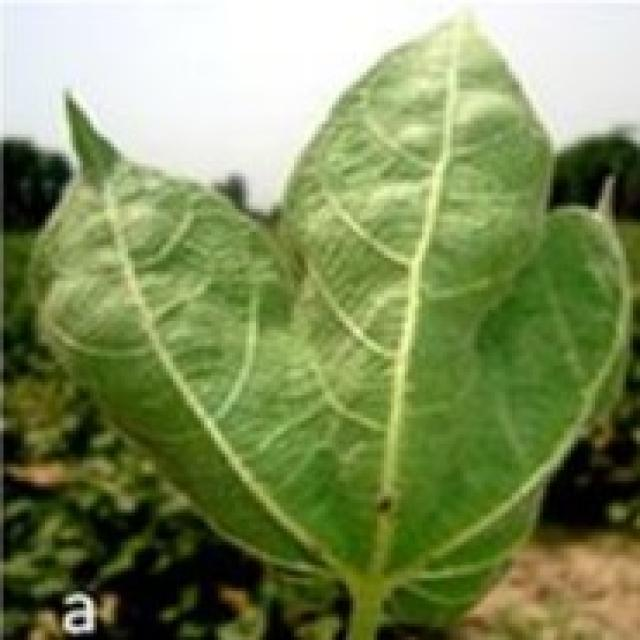Leaf Curl Virus: (78, 164, 572, 522)
